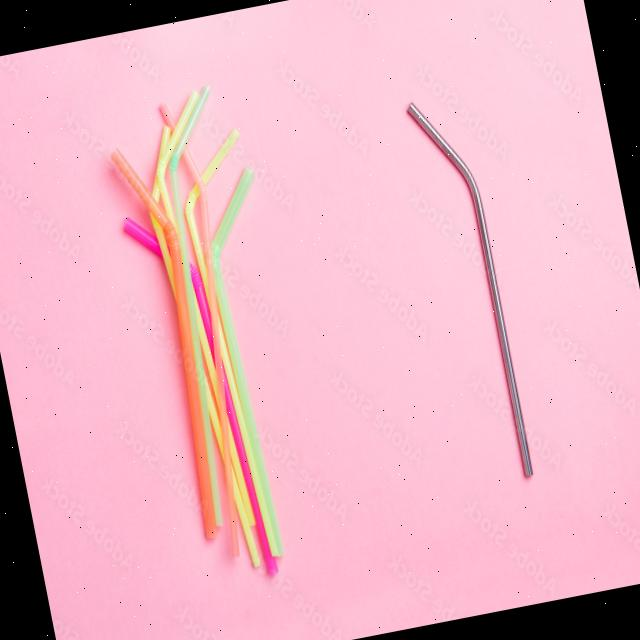plastic: (90, 134, 242, 556)
